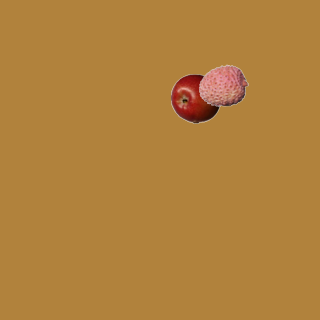Apple Braeburn: (170, 73, 220, 123)
Lychee: (198, 60, 248, 110)
